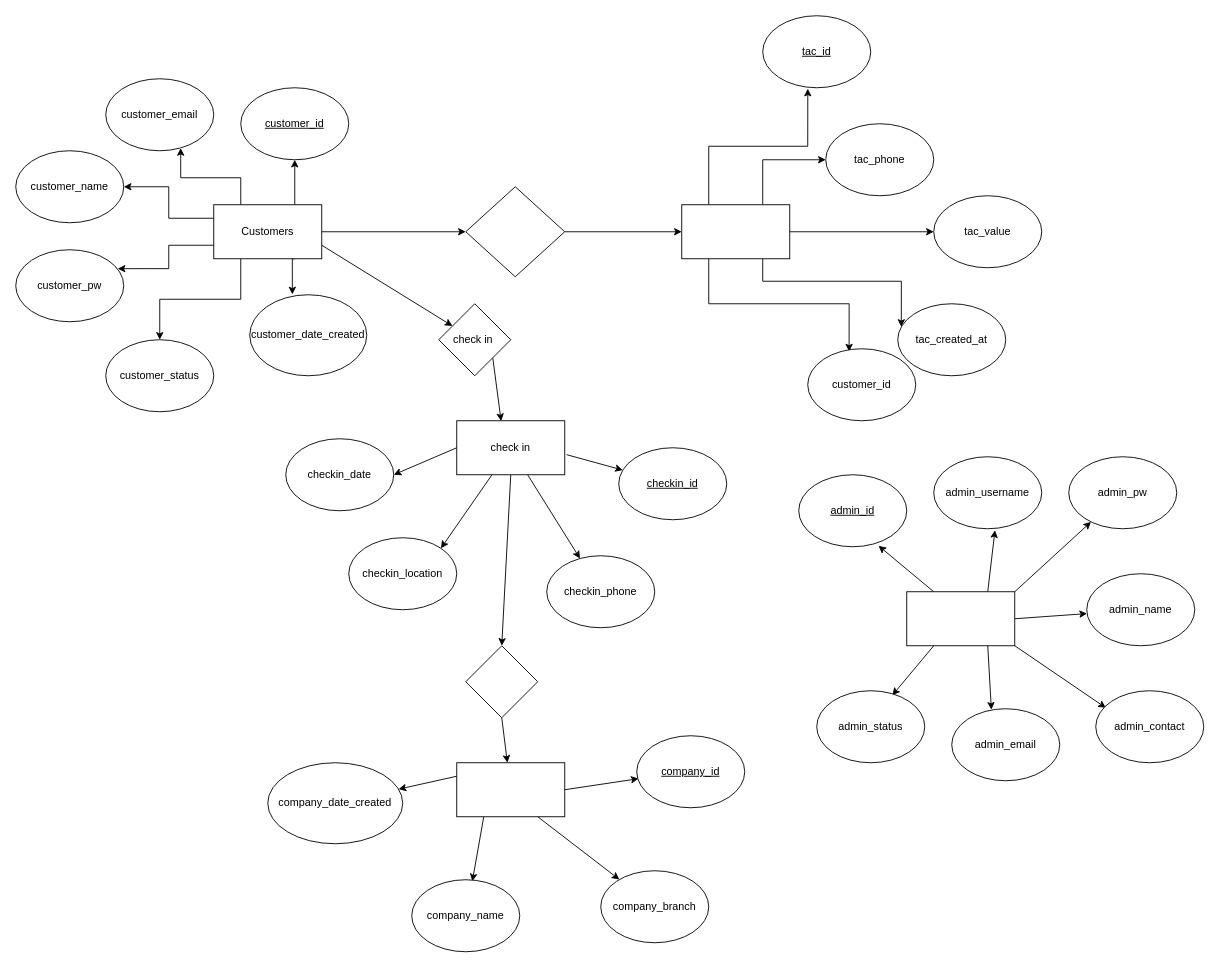
The diagram is 1220 pixels wide and 968 high, and some of its shapes have lost their labels. Here are the shapes that lost their labels. From the top down, the centre of each, then its label:
(515,231): register
(735,231): tac
(960,618): admin
(501,681): into business
(510,789): company
